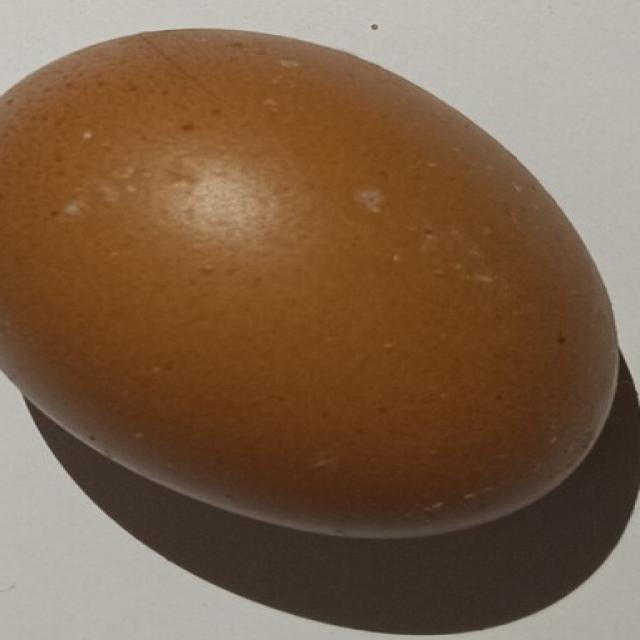unfresh: (0, 25, 618, 536)
